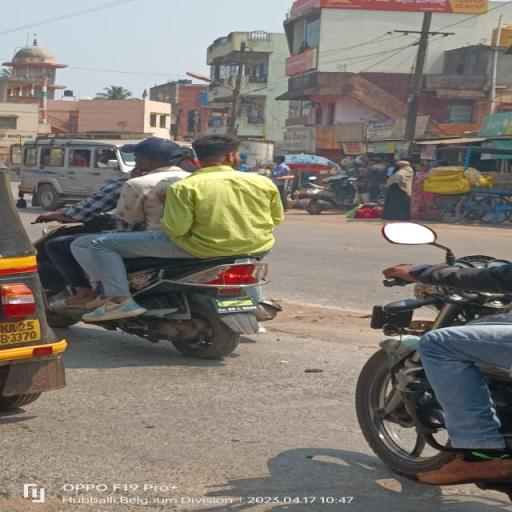bike: (31, 132, 286, 354)
withouthelmet: (136, 139, 176, 170), (196, 135, 234, 165)
